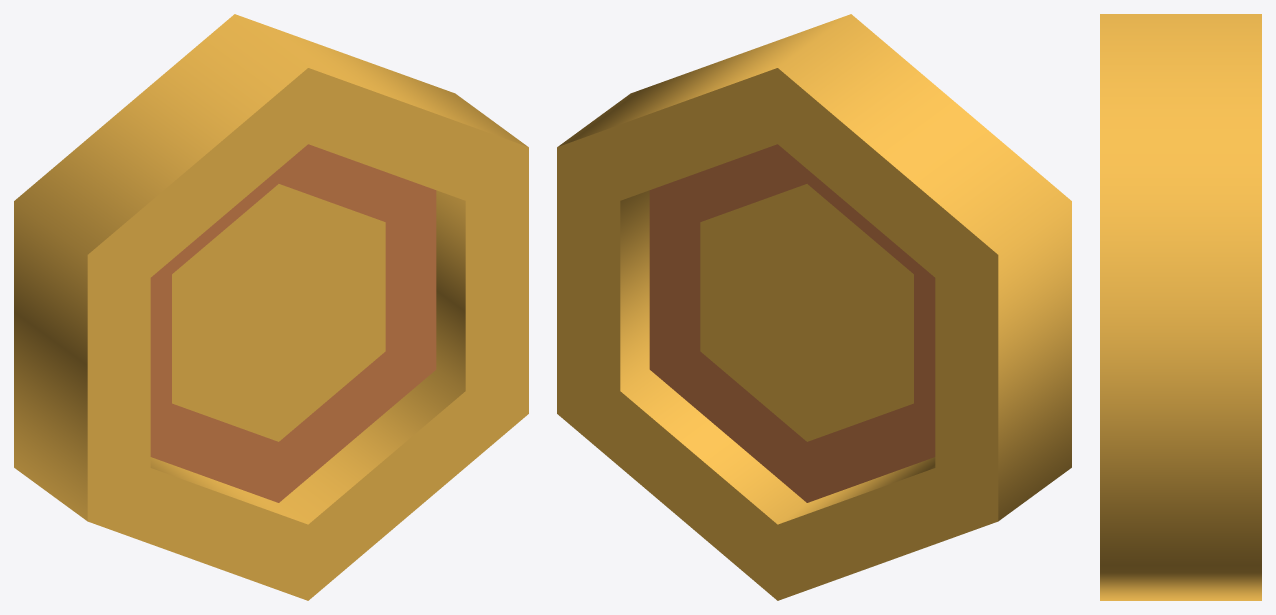
The model's file is coinGold.fbx.
3 renders of one model, left to right at view 1: azimuth 30°, elevation 25°; view 2: azimuth 150°, elevation 25°; view 3: azimuth 270°, elevation 25°, orthographic. The views are drawn at different scales.
Visible parts, largest first — view 1: coinGold; view 2: coinGold; view 3: coinGold.
Boxes of the visible parts, left/top/right/bottom form: coinGold: left=14, top=14, right=528, bottom=600; coinGold: left=557, top=14, right=1071, bottom=600; coinGold: left=1100, top=14, right=1261, bottom=600.
Bounding box in the file's own units: 3.46 × 4 × 1.
